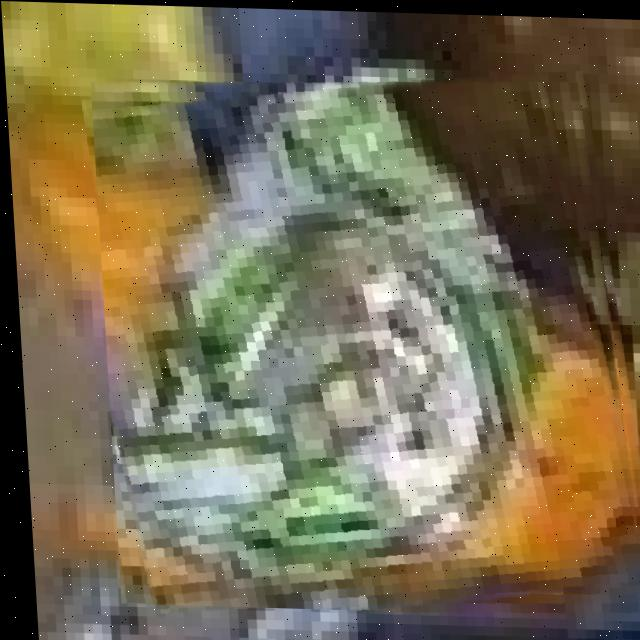can: (88, 65, 640, 614)
